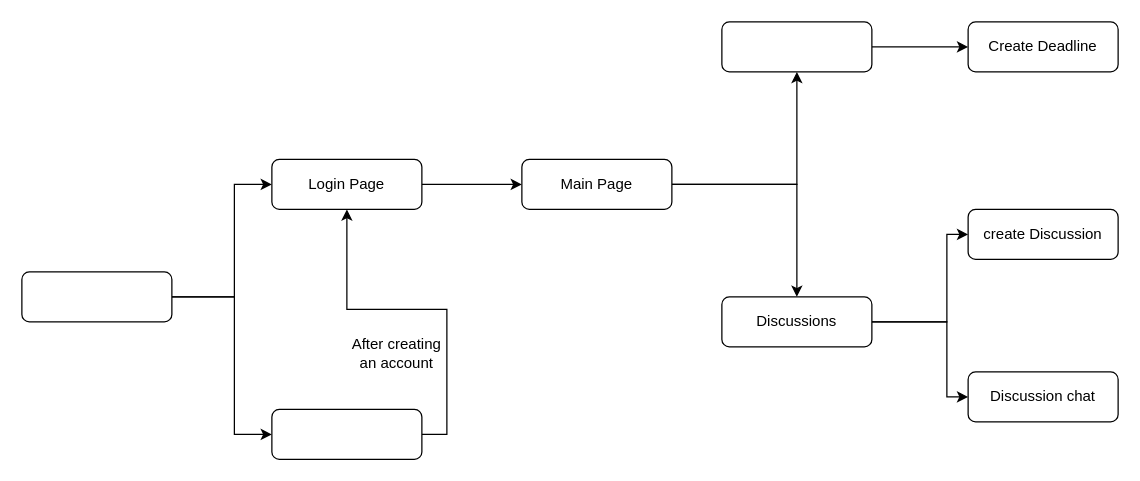
Some shapes in this 1140 by 481 pixel diagram are drawn without their labels. Each missing label, with the box of its shape:
Deadlines: (721, 21, 872, 72)
Landing Page: (21, 271, 172, 322)
Register Page: (271, 408, 422, 459)
